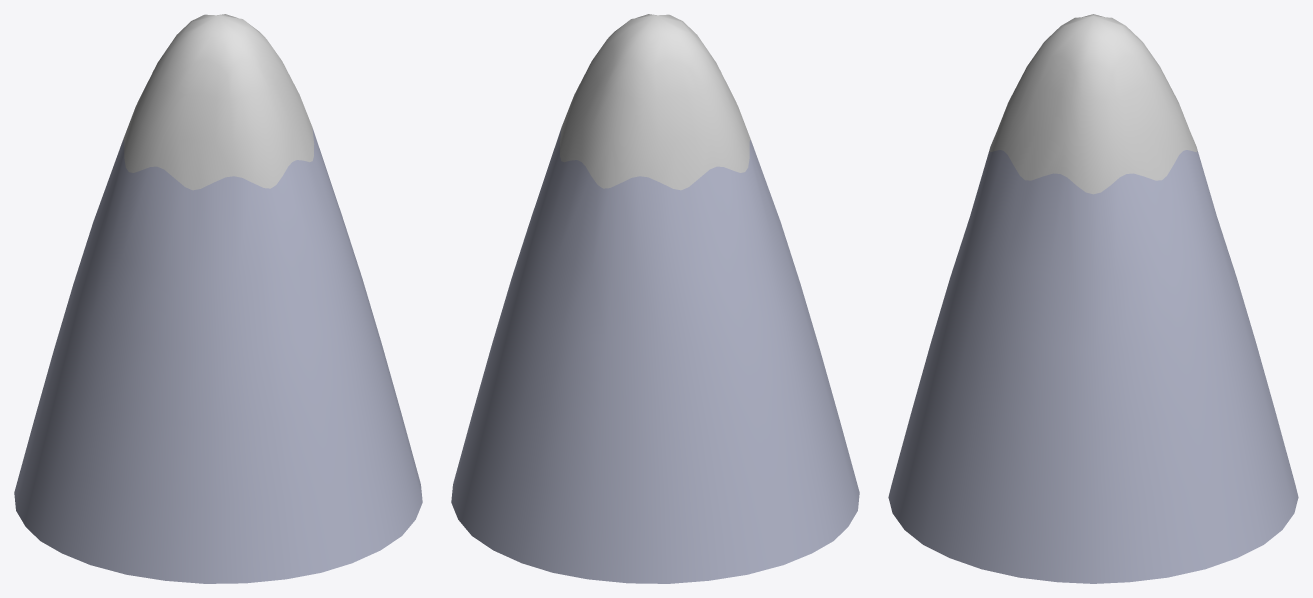
The model's file is Mountain A.fbx.
3 renders of one model, left to right at view 1: azimuth 30°, elevation 25°; view 2: azimuth 150°, elevation 25°; view 3: azimuth 270°, elevation 25°, orthographic.
Parts seen in each view (by area): view 1: Mountain A; view 2: Mountain A; view 3: Mountain A.
Part boxes in pixels (x1,y1,x2,y2): Mountain A: (14,14,422,583); Mountain A: (451,14,859,583); Mountain A: (888,14,1298,583).
Bounding box in the file's own units: 9.93 × 12.84 × 9.92.
